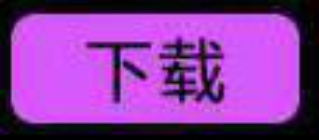Button: (1, 1, 318, 139)
